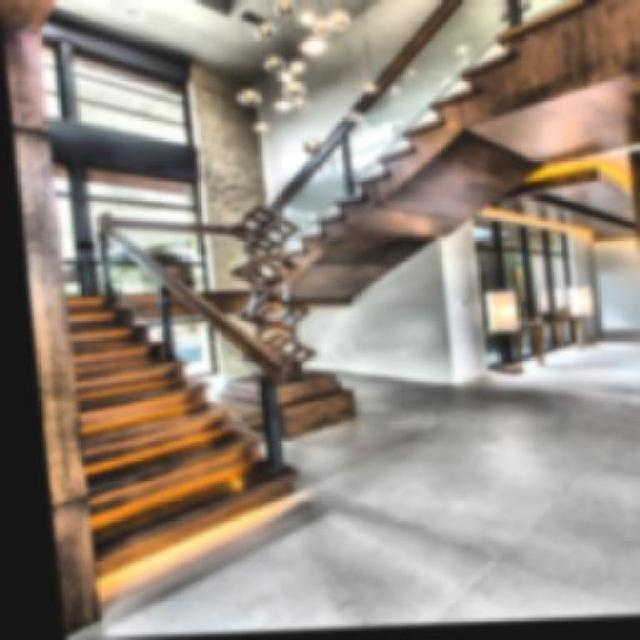stair: (23, 275, 292, 575)
